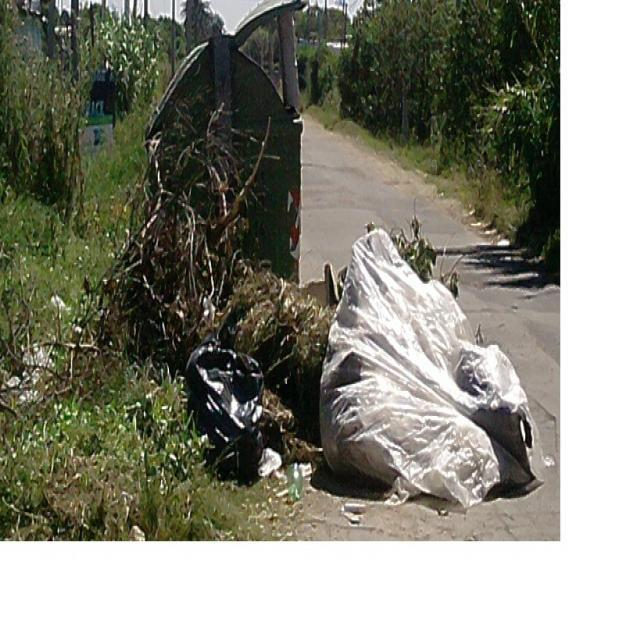garbage: (305, 233, 533, 500), (188, 330, 284, 496)
